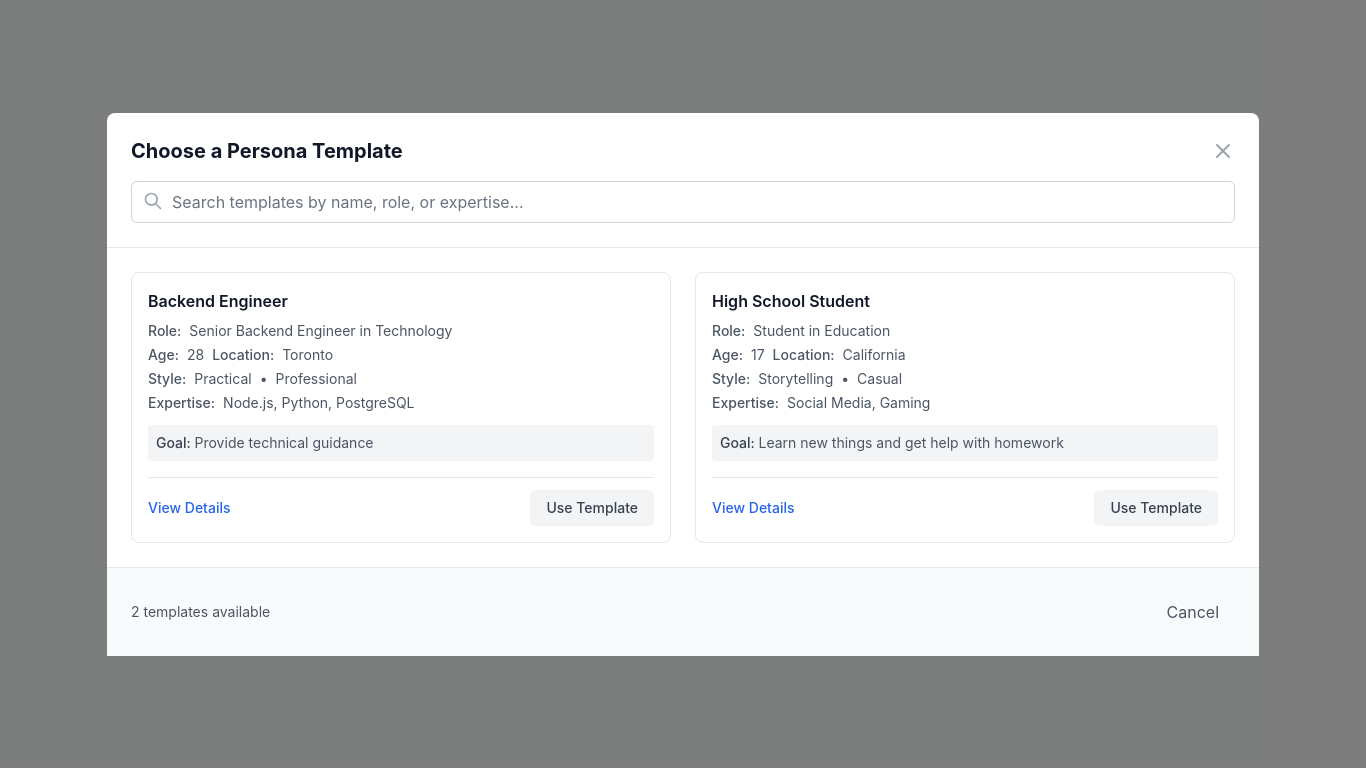
Test case: TemplateSelector › should display no results when search has no matches
Type "nonexistent" into the field with placeholder "Search templates by name, role, or expertise...".
click(683, 202); type("nonexistent")  # box [131,180,1235,222]
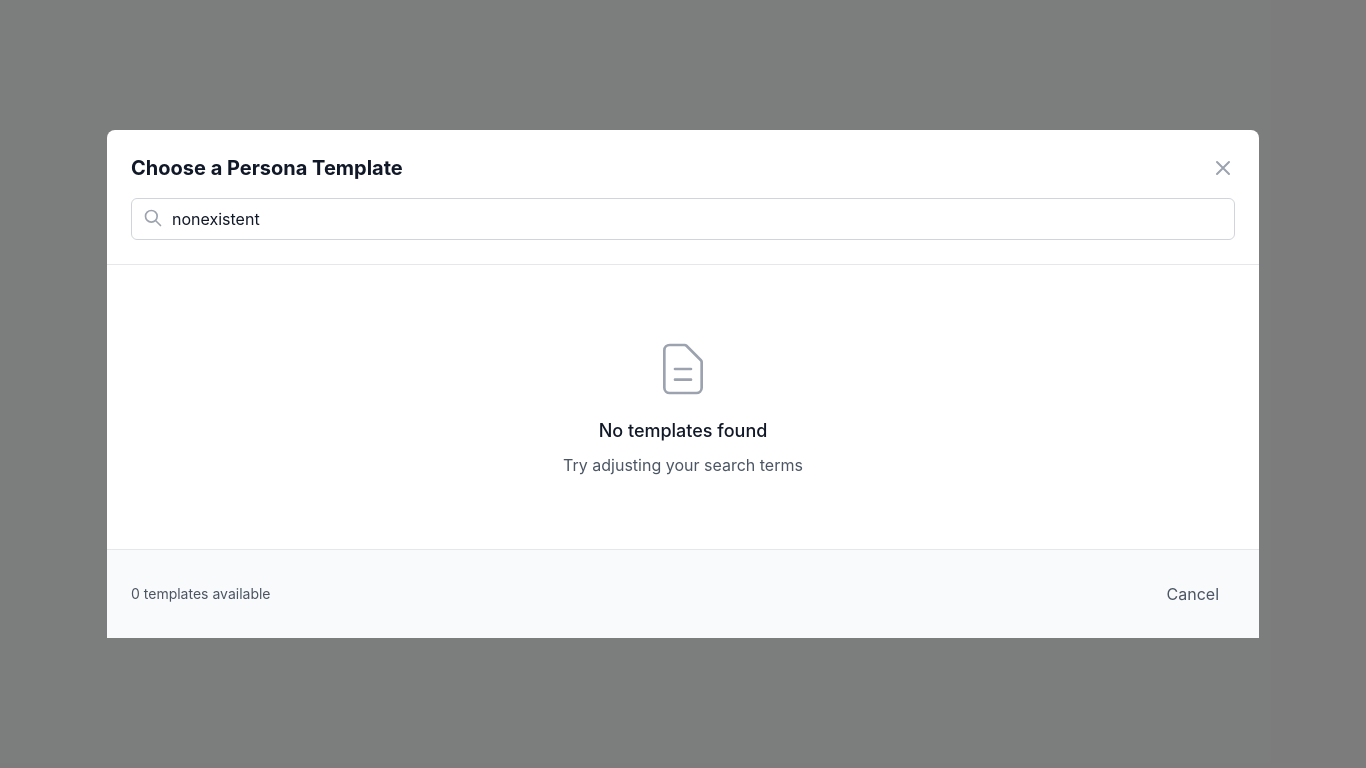
Result: the heading "No templates found" is shown at [599,420,767,441]
Result: the text "Try adjusting your search terms" is shown at [563,455,803,475]
